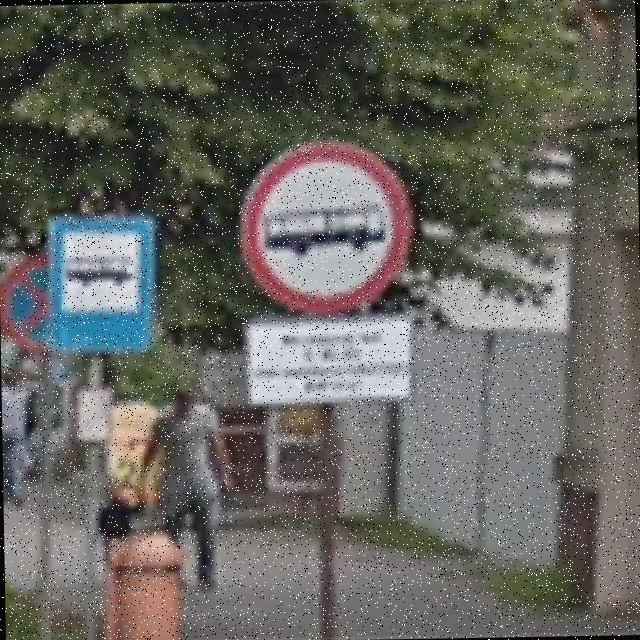Zakaz zatrzymywania sie: (0, 252, 46, 357)
